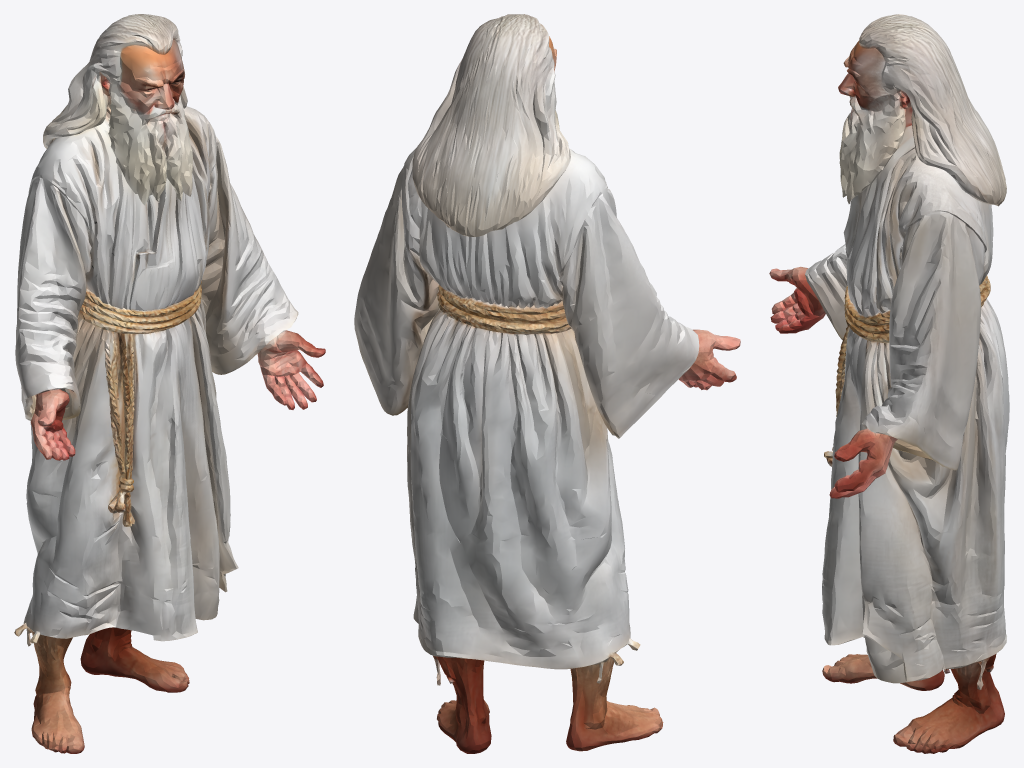
Rendered from utnapishtim_rodin_source.glb.
3 renders of one model, left to right at view 1: azimuth 30°, elevation 25°; view 2: azimuth 150°, elevation 25°; view 3: azimuth 270°, elevation 25°, orthographic. The views are drawn at different scales.
Parts seen in each view (by area): view 1: model; view 2: model; view 3: model.
Part boxes in pixels (bbox=[...]): model: bbox=[14, 14, 325, 753]; model: bbox=[354, 14, 740, 753]; model: bbox=[769, 14, 1009, 753].
Bounding box in the file's own units: 0.9196 × 1.9 × 0.5847.
Materials: 1 (1 with a texture image).
